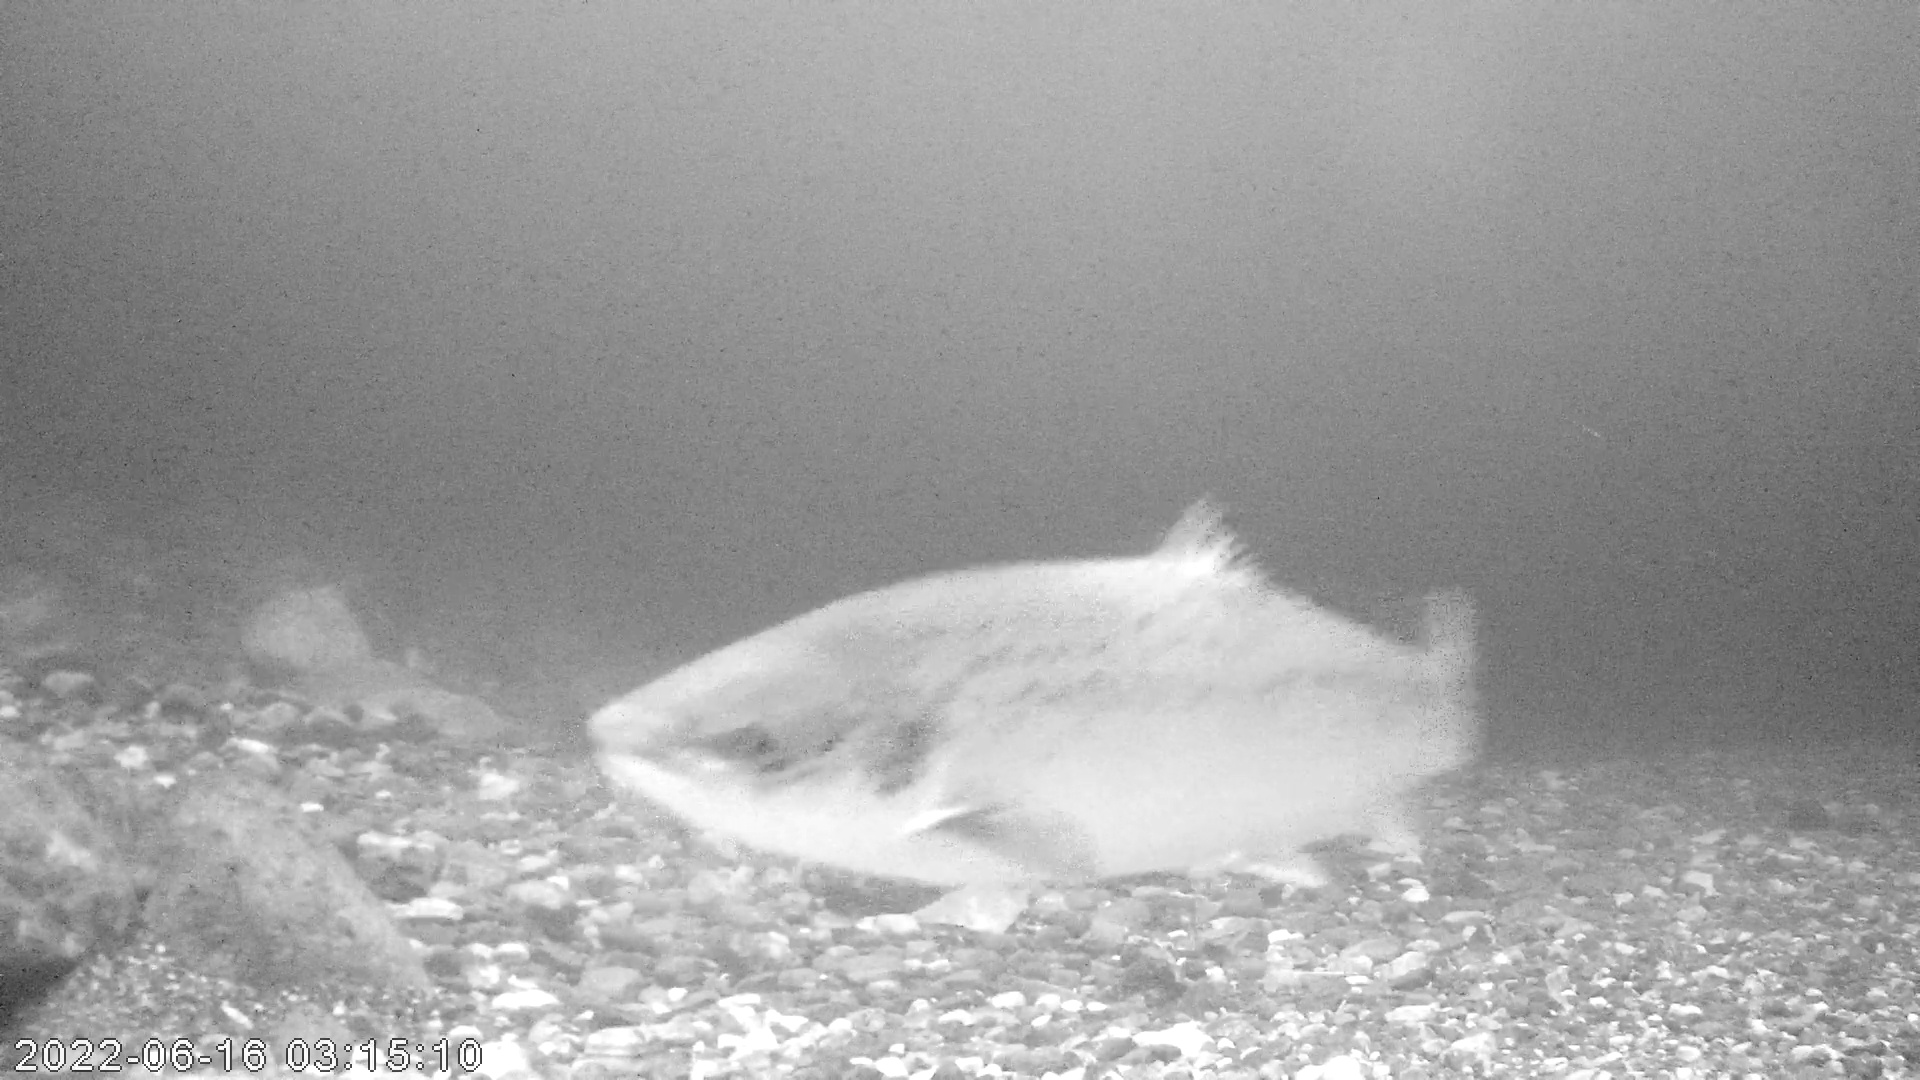salmon: (582, 491, 1481, 891)
